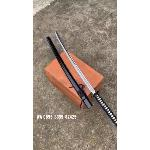Pedang: (51, 28, 118, 128)
